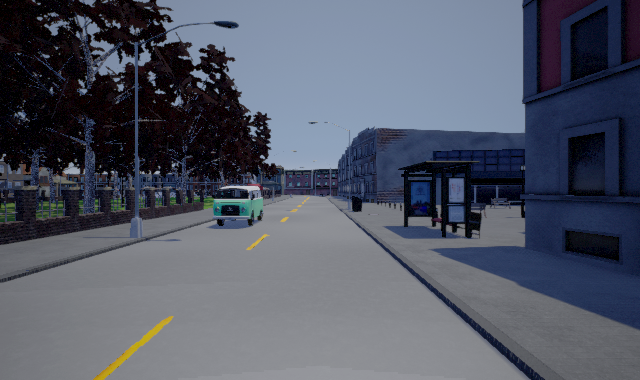vehicle: (212, 186, 264, 226)
